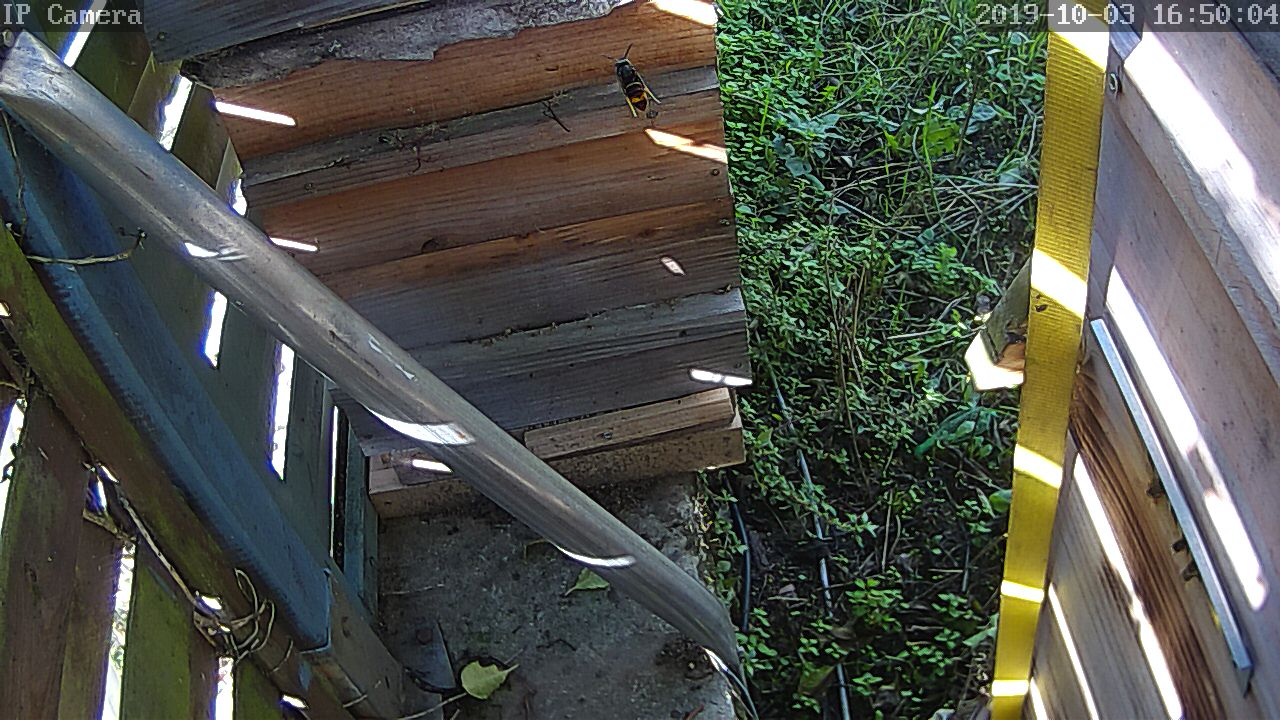bee: (1155, 531, 1199, 585), (1136, 472, 1166, 507)
hornet: (610, 52, 657, 122)
